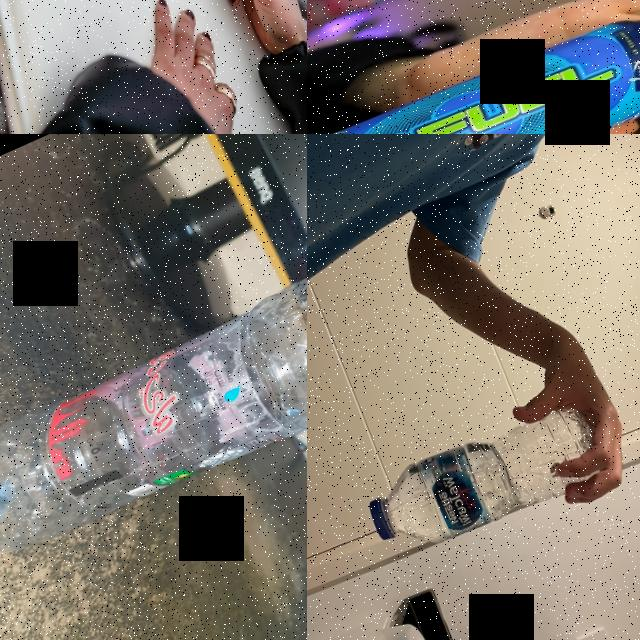bottle: (0, 196, 307, 587), (356, 388, 612, 571)
can: (307, 0, 640, 134)
